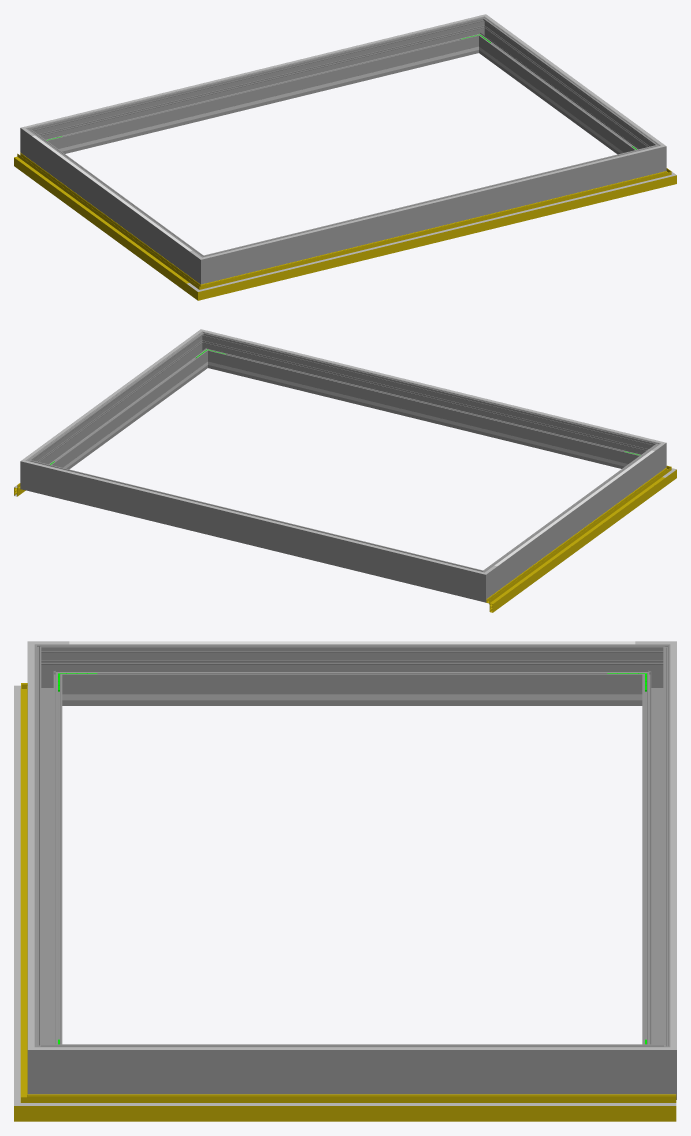
3 renders of one model, top to bottom at view 1: azimuth 30°, elevation 25°; view 2: azimuth 150°, elevation 25°; view 3: azimuth 270°, elevation 25°, orthographic. The views are drawn at different scales.
Parts seen in each view (by area): view 1: 3DGeom-276, 3DGeom-298, 3DGeom-90, 3DGeom-297, 3DGeom-268, 3DGeom-85, 3DGeom-244, 3DGeom-100, 3DGeom-316, 3DGeom-304, 3DGeom-270, 3DGeom-105 (+7 smaller); view 2: 3DGeom-298, 3DGeom-276, 3DGeom-297, 3DGeom-268, 3DGeom-85, 3DGeom-239, 3DGeom-304, 3DGeom-316, 3DGeom-278, 3DGeom-284, 3DGeom-105, 3DGeom-313 (+4 smaller); view 3: 3DGeom-268, 3DGeom-297, 3DGeom-97, 3DGeom-298, 3DGeom-276, 3DGeom-232, 3DGeom-90, 3DGeom-100, 3DGeom-304, 3DGeom-316, 3DGeom-313, 3DGeom-290 (+6 smaller).
Boxes of the visible parts, x1,y1,x2,y2 form: 3DGeom-276: (42, 20, 475, 153); 3DGeom-298: (217, 148, 646, 279); 3DGeom-90: (214, 174, 656, 295); 3DGeom-297: (481, 23, 651, 154); 3DGeom-268: (32, 134, 195, 275); 3DGeom-85: (14, 152, 192, 291); 3DGeom-244: (66, 51, 459, 150); 3DGeom-100: (217, 179, 656, 286); 3DGeom-316: (219, 150, 645, 254); 3DGeom-304: (41, 19, 467, 123); 3DGeom-270: (189, 250, 220, 284); 3DGeom-105: (14, 156, 189, 283); 3DGeom-298: (211, 335, 644, 468); 3DGeom-276: (40, 463, 469, 597); 3DGeom-297: (35, 338, 205, 469); 3DGeom-268: (491, 449, 654, 590); 3DGeom-85: (486, 473, 665, 612); 3DGeom-239: (227, 366, 620, 465); 3DGeom-304: (41, 465, 467, 569); 3DGeom-316: (219, 334, 645, 438); 3DGeom-278: (466, 565, 497, 602); 3DGeom-284: (20, 453, 43, 493); 3DGeom-105: (490, 477, 664, 604); 3DGeom-313: (494, 450, 654, 566); 3DGeom-268: (69, 644, 635, 705); 3DGeom-297: (69, 1044, 635, 1094); 3DGeom-97: (55, 1094, 676, 1121); 3DGeom-298: (27, 659, 62, 1044); 3DGeom-276: (642, 659, 670, 1044); 3DGeom-232: (102, 694, 602, 700); 3DGeom-90: (20, 698, 27, 1088); 3DGeom-100: (14, 703, 20, 1088); 3DGeom-304: (670, 659, 676, 1032); 3DGeom-316: (28, 659, 34, 1032); 3DGeom-313: (69, 641, 635, 644); 3DGeom-290: (27, 1032, 69, 1094).
Bounding box in the file's own units: 3.66 × 0.2667 × 2.44.
